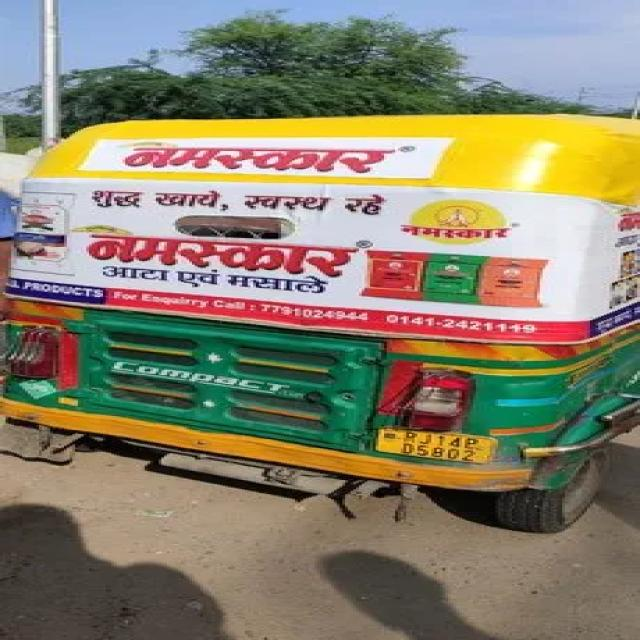plate: (368, 421, 498, 467)
